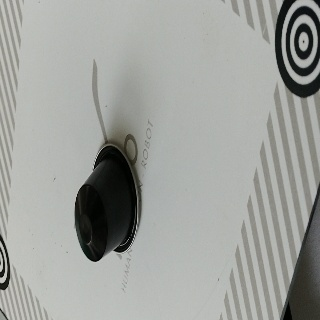capsule_10: (73, 142, 141, 262)
